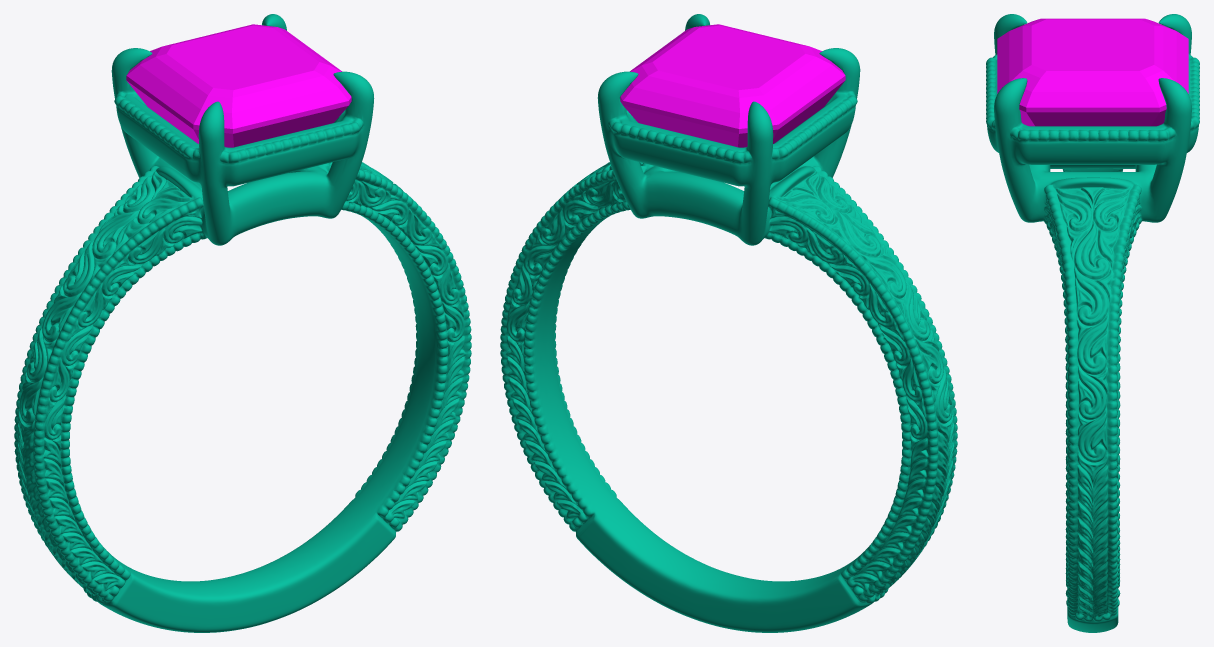
The model's file is BE1512_AS_200ct_RENDER.glb.
3 views of the same model, side by side, from view 1: azimuth 30°, elevation 25°; view 2: azimuth 150°, elevation 25°; view 3: azimuth 270°, elevation 25° (orthographic).
Parts seen in each view (by area): view 1: Metal 01, CS_Diamond_Asscher; view 2: Metal 01, CS_Diamond_Asscher; view 3: Metal 01, CS_Diamond_Asscher.
Boxes of the visible parts, bbox=[...] form: Metal 01: bbox=[14, 14, 471, 632]; CS_Diamond_Asscher: bbox=[126, 24, 351, 147]; Metal 01: bbox=[500, 14, 957, 632]; CS_Diamond_Asscher: bbox=[620, 24, 845, 147]; Metal 01: bbox=[986, 14, 1199, 632]; CS_Diamond_Asscher: bbox=[997, 18, 1188, 126].
Bounding box in the file's own units: 19.9 × 24.39 × 8.39.
